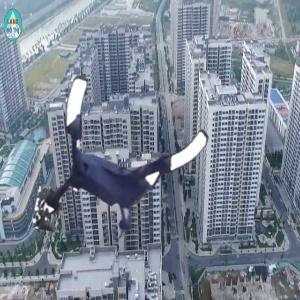drone: (45, 85, 206, 246)
